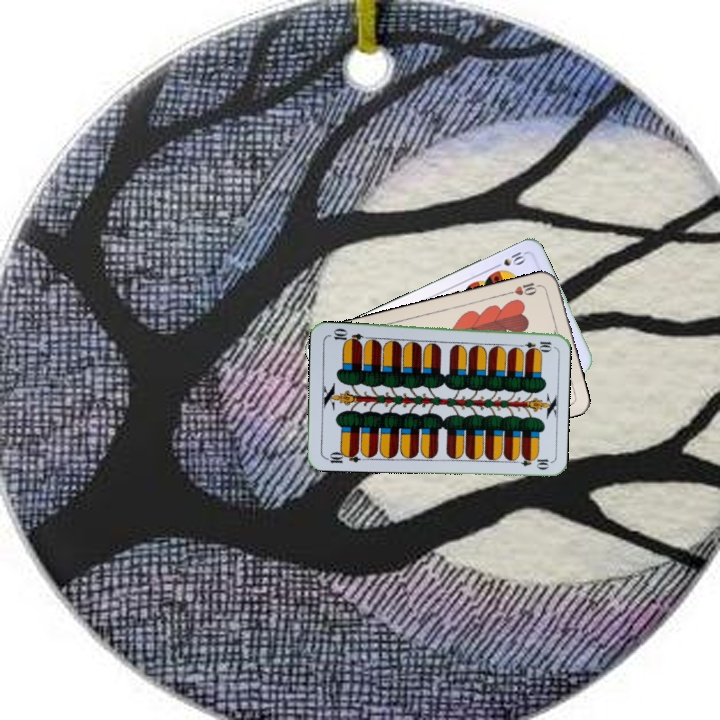E10: (322, 447, 362, 466), (514, 337, 554, 351)
H10: (504, 278, 544, 298)
S10: (489, 247, 529, 271)
